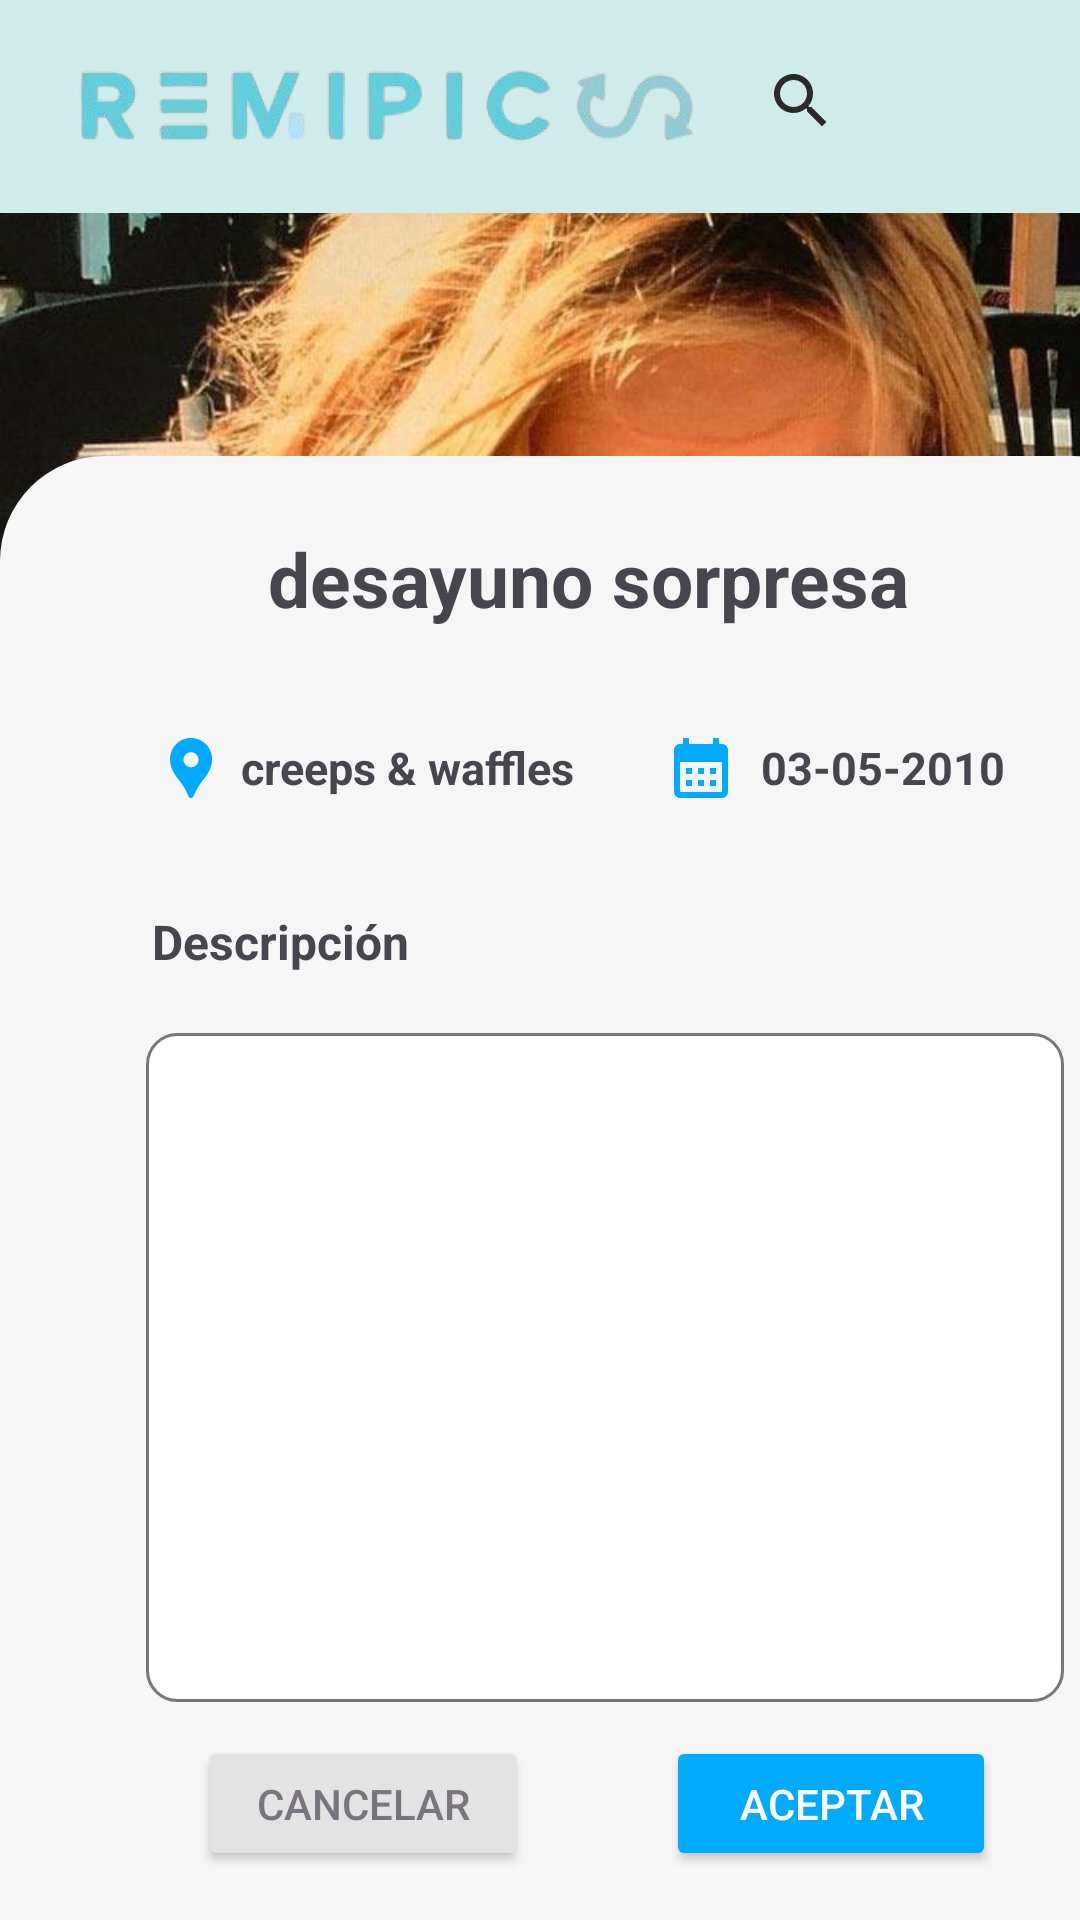

Locate icon controls on the screen. Image size 1080px×1920px, boxes as box=[x1, y1, x2, y2].
fecha: box=[674, 738, 728, 798]
lupa: box=[774, 74, 826, 126]
ubi: box=[170, 738, 212, 798]
